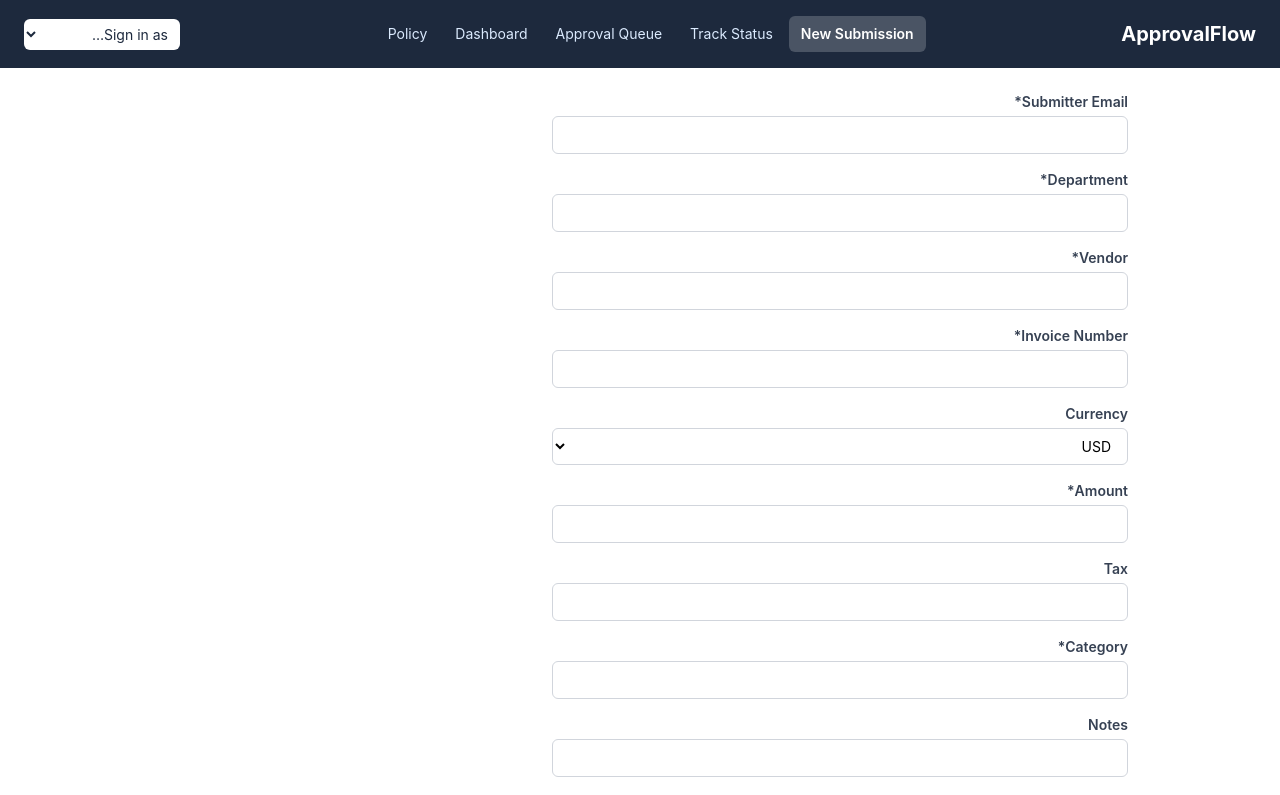
Test: App › switches to Approval Queue tab and shows the empty state
Click the button "Approval Queue" at (609, 34), box [544,16,674,52]
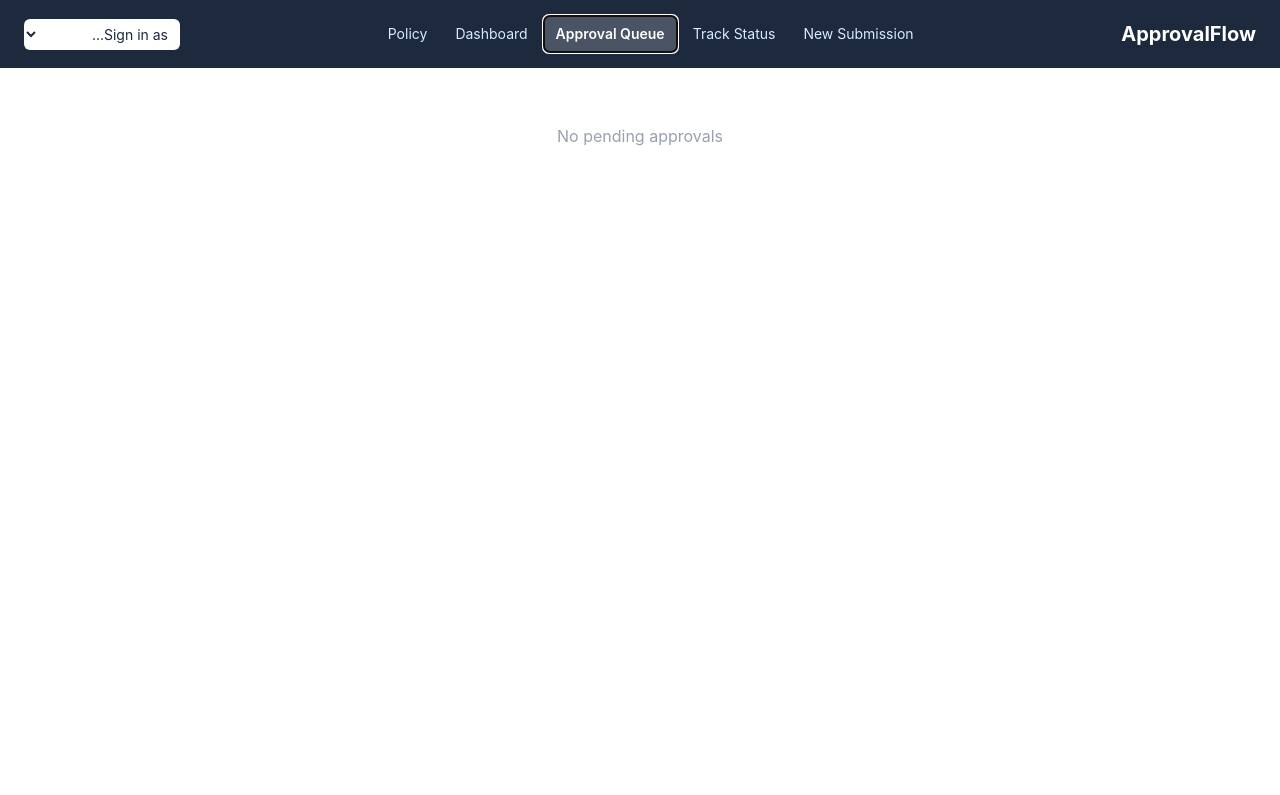
Result: the text "No pending approvals" is shown at [557,126,723,146]
